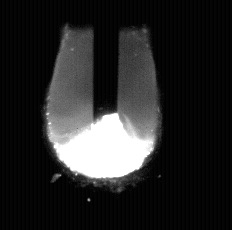arame: (94, 0, 119, 123)
poca: (47, 0, 158, 230)
